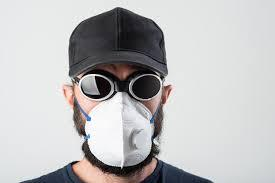cap: (64, 3, 177, 82)
mask: (86, 87, 160, 177)
sunglasses: (80, 68, 163, 106)
